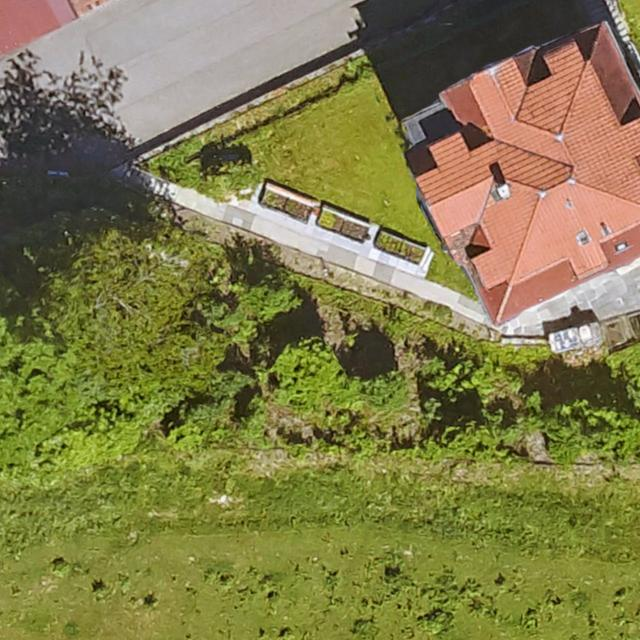tree: (34, 225, 214, 405), (541, 400, 638, 463), (270, 339, 350, 412), (363, 370, 411, 412), (234, 392, 269, 440)
